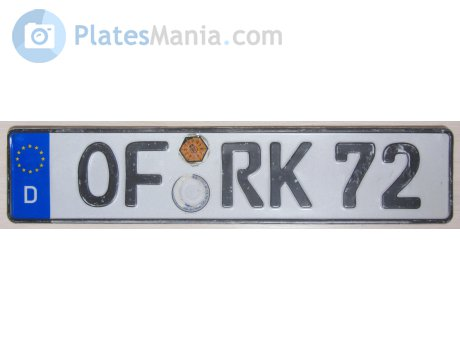License Plates: (45, 133, 443, 219)
